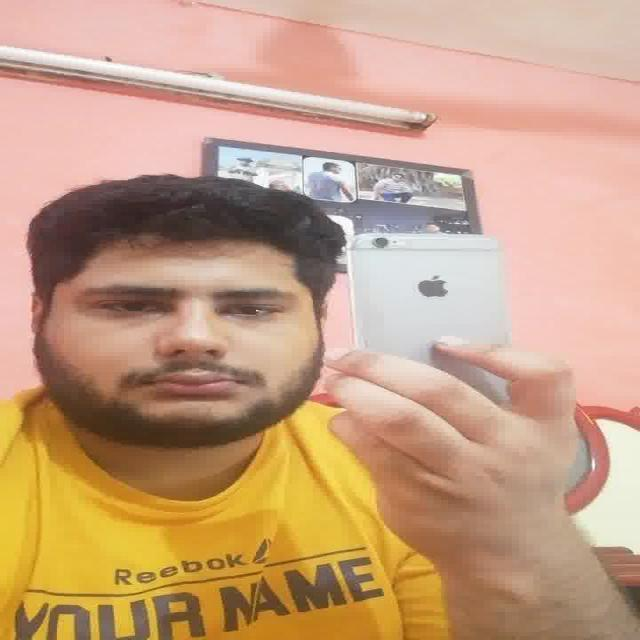Phone: (344, 230, 510, 353)
